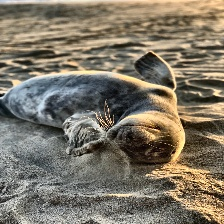seal: (1, 51, 187, 166)
